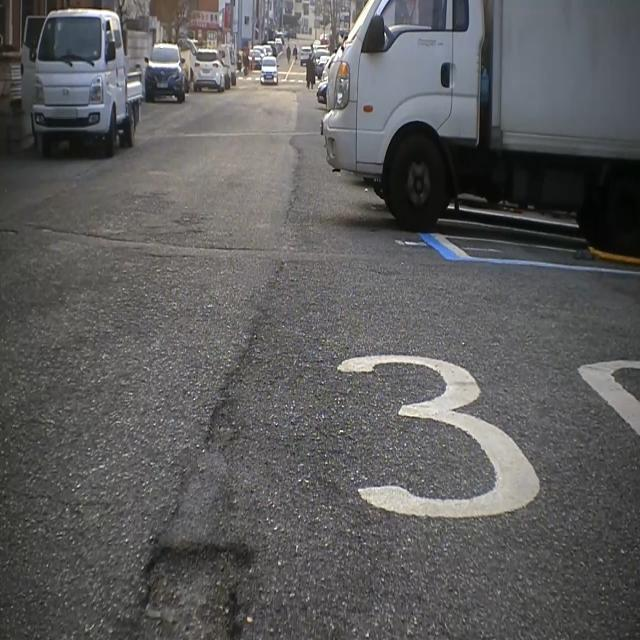Pothole: (144, 542, 251, 639)
